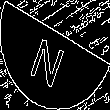N_NE: (34, 24, 76, 86)
